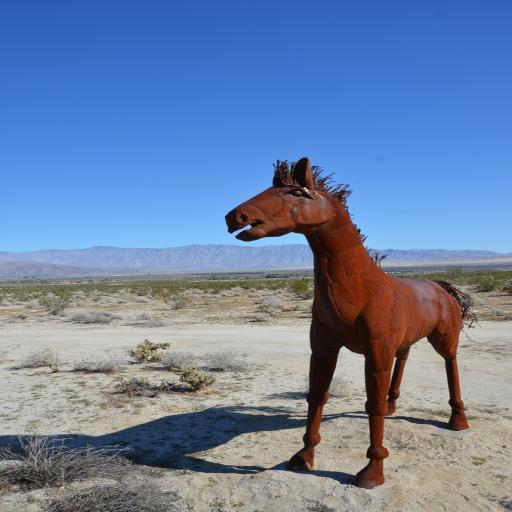horse: (222, 155, 482, 487)
